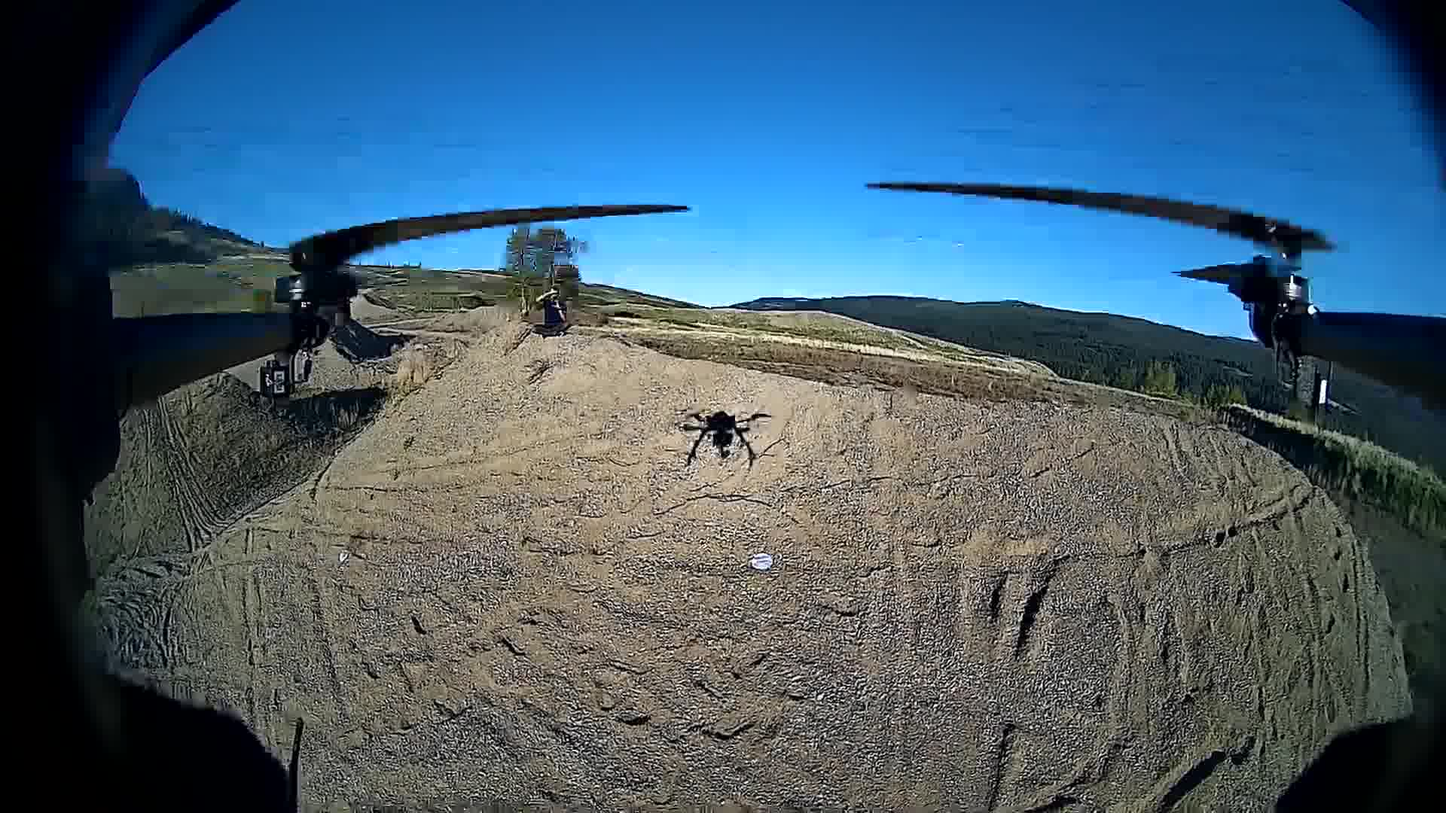Target: (752, 553, 771, 571)
